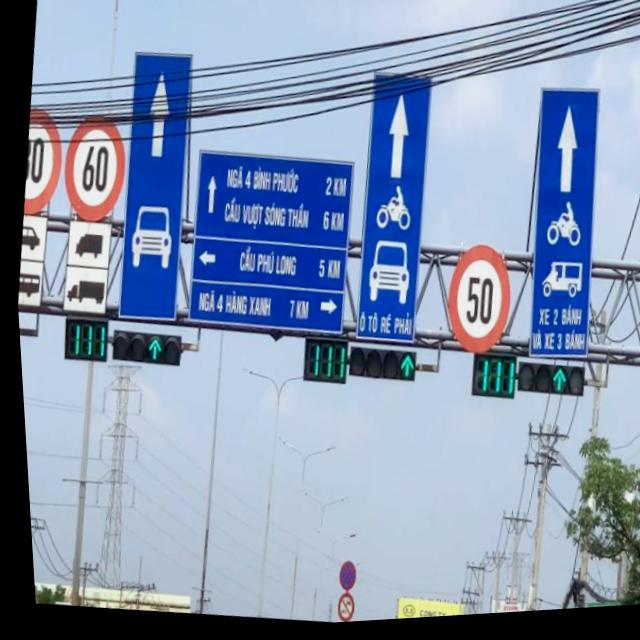Cam dung xe va do xe: (329, 563, 350, 595)
Toc do toi da cho phep: (435, 245, 514, 365), (53, 108, 132, 228), (16, 105, 69, 220)
